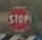stop: (5, 4, 32, 33)
